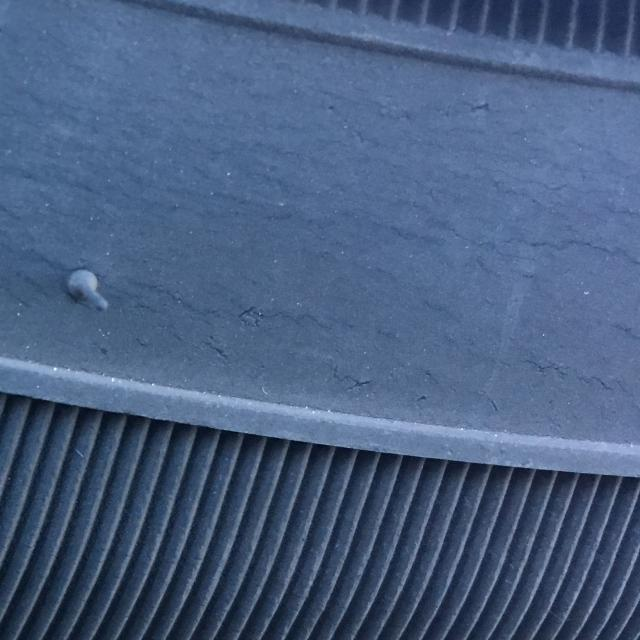Cracks: (0, 30, 640, 420)
Non-defective: (0, 430, 640, 640)
